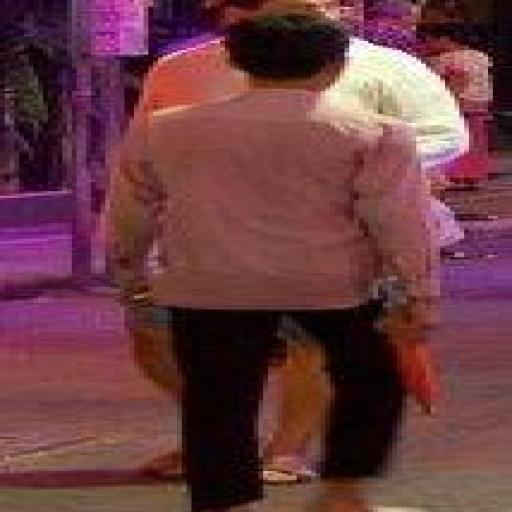person: (106, 14, 440, 511), (326, 37, 468, 175), (422, 23, 492, 186), (364, 0, 421, 54)
